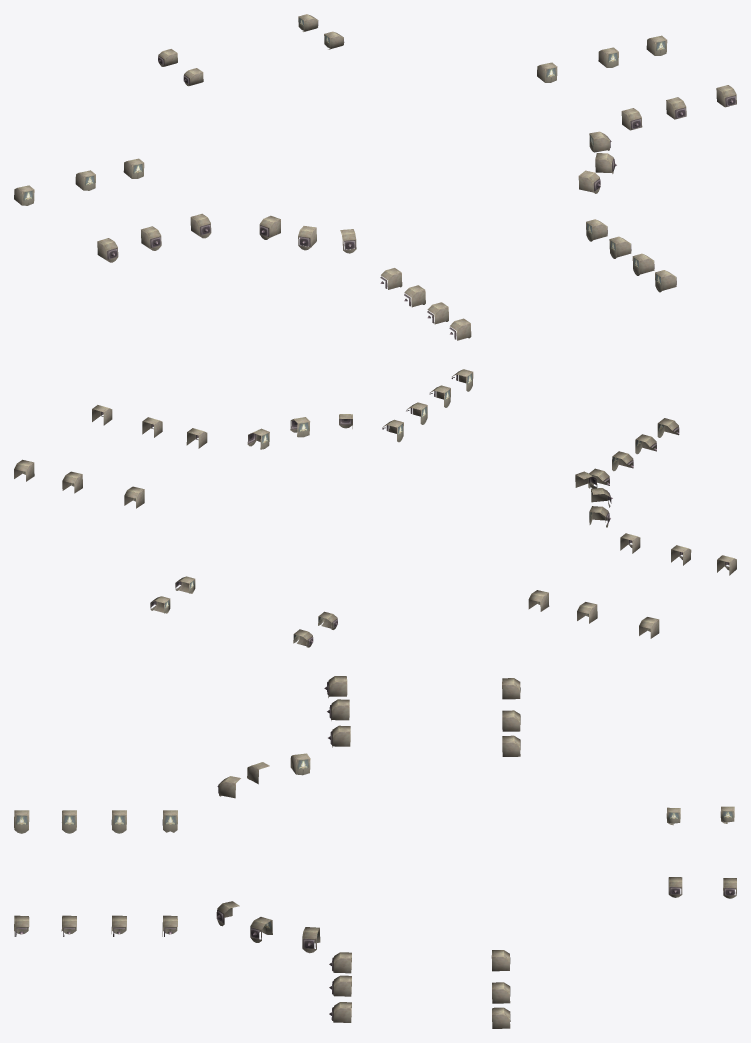
Rendered from S_Build_City127_A.FBX.
The picture shows the model from 3 angles, top to bottom: view 1: azimuth 30°, elevation 25°; view 2: azimuth 150°, elevation 25°; view 3: azimuth 270°, elevation 25°; orthographic projection. The views are drawn at different scales.
Size of the model in its own units: 9658 by 8781 by 587.
1 material, 1 textured.
